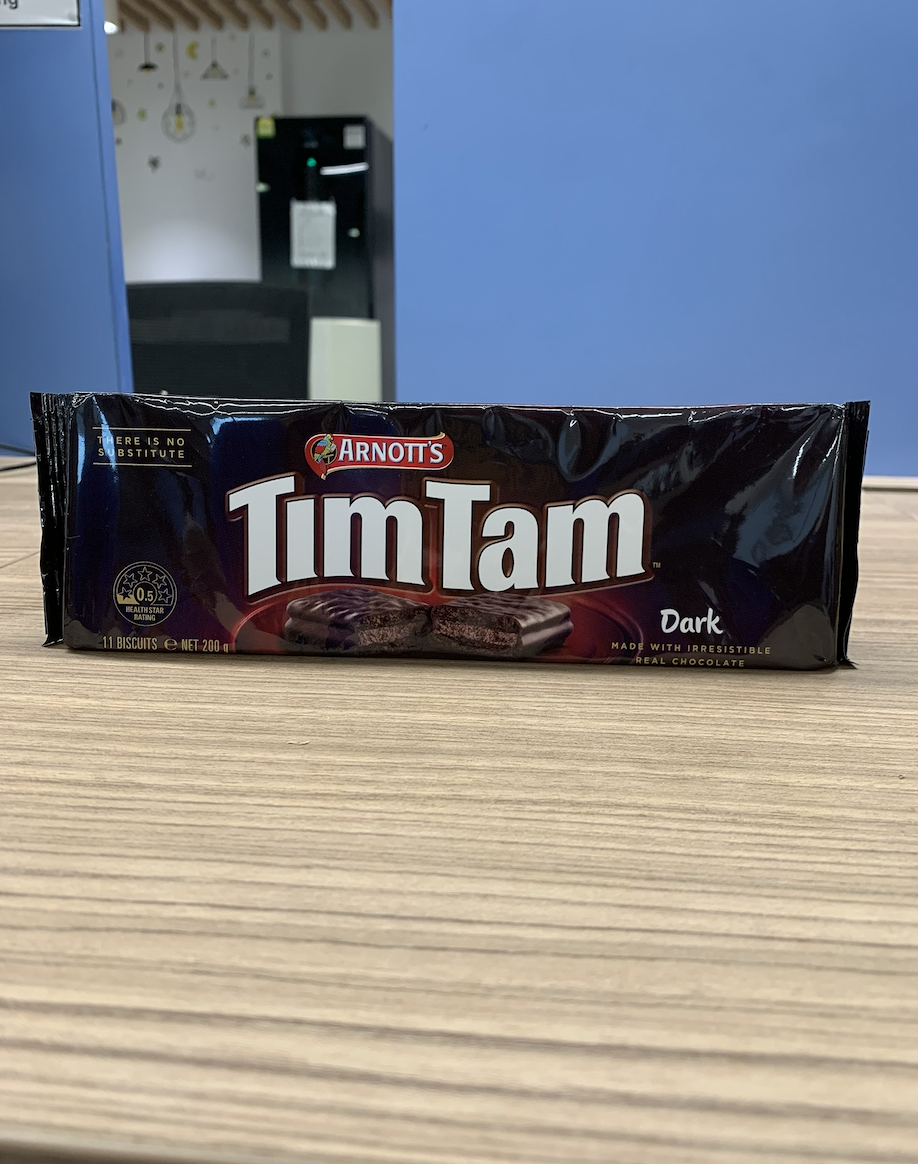cookies_200g-299g: (54, 414, 836, 654)
